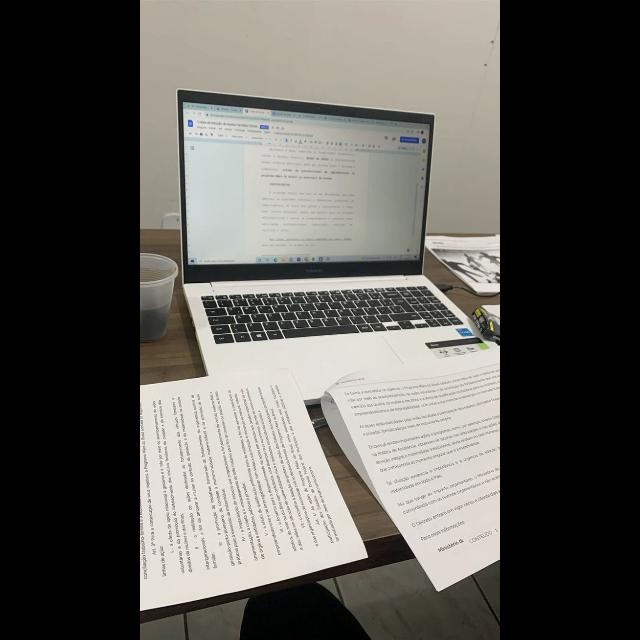laptop: (180, 91, 477, 403)
